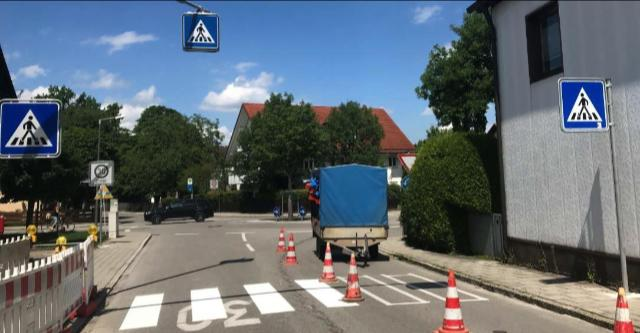crosswalk-sign: (2, 100, 63, 159), (559, 78, 610, 132), (182, 12, 220, 52)
